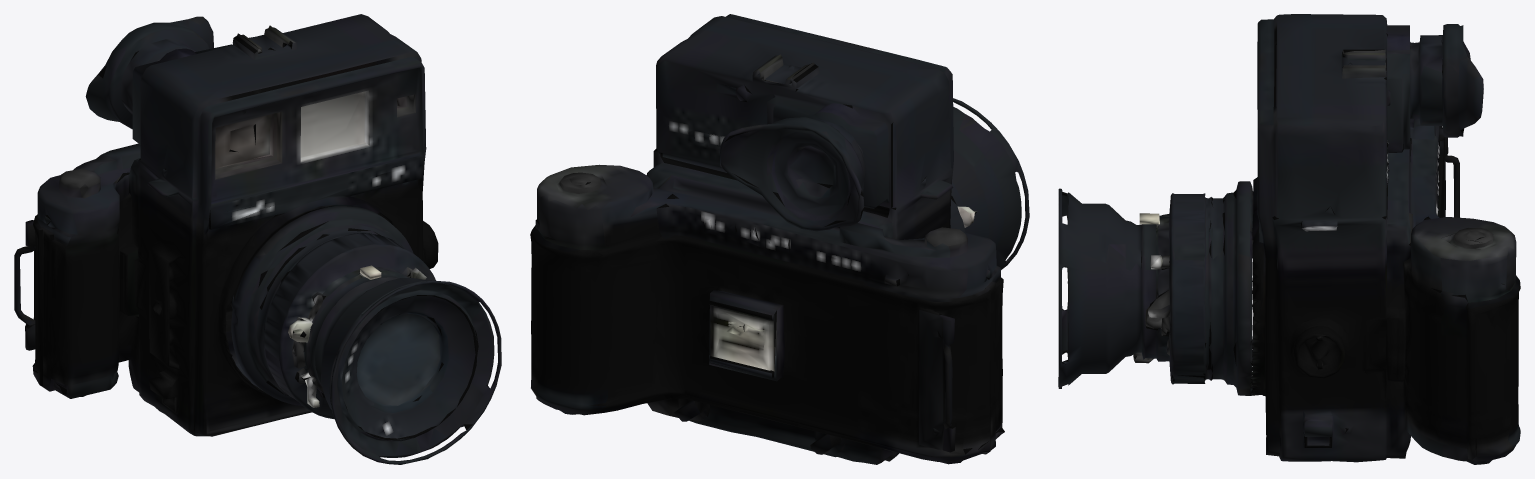
The picture shows the model from 3 angles, left to right: view 1: azimuth 30°, elevation 25°; view 2: azimuth 150°, elevation 25°; view 3: azimuth 270°, elevation 25°; orthographic projection. The views are drawn at different scales.
Visible parts, largest first — view 1: mamiya-universal-shelf; view 2: mamiya-universal-shelf; view 3: mamiya-universal-shelf.
Part boxes in pixels (box(x1,y1,x2,y2)): mamiya-universal-shelf: box(14, 14, 501, 464); mamiya-universal-shelf: box(530, 14, 1029, 464); mamiya-universal-shelf: box(1058, 14, 1520, 464).
Bounding box in the file's own units: 0.2353 × 0.1954 × 0.2331.
Materials: 1 (1 with a texture image).
